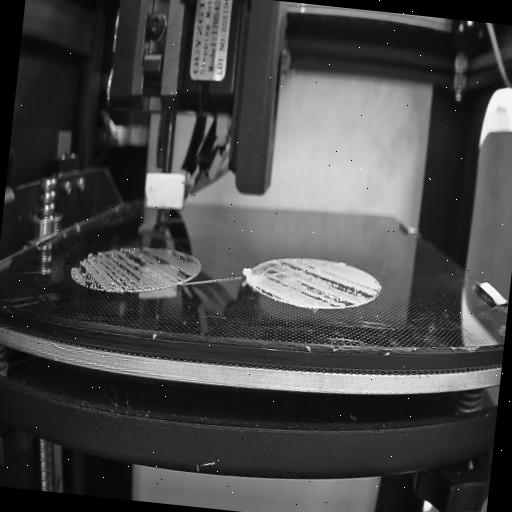under_extrusion: (73, 242, 196, 301), (255, 258, 381, 313)
